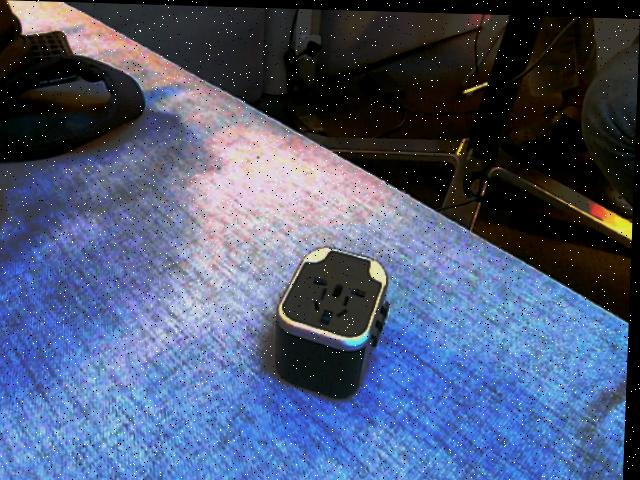adapter: (275, 242, 393, 398)
